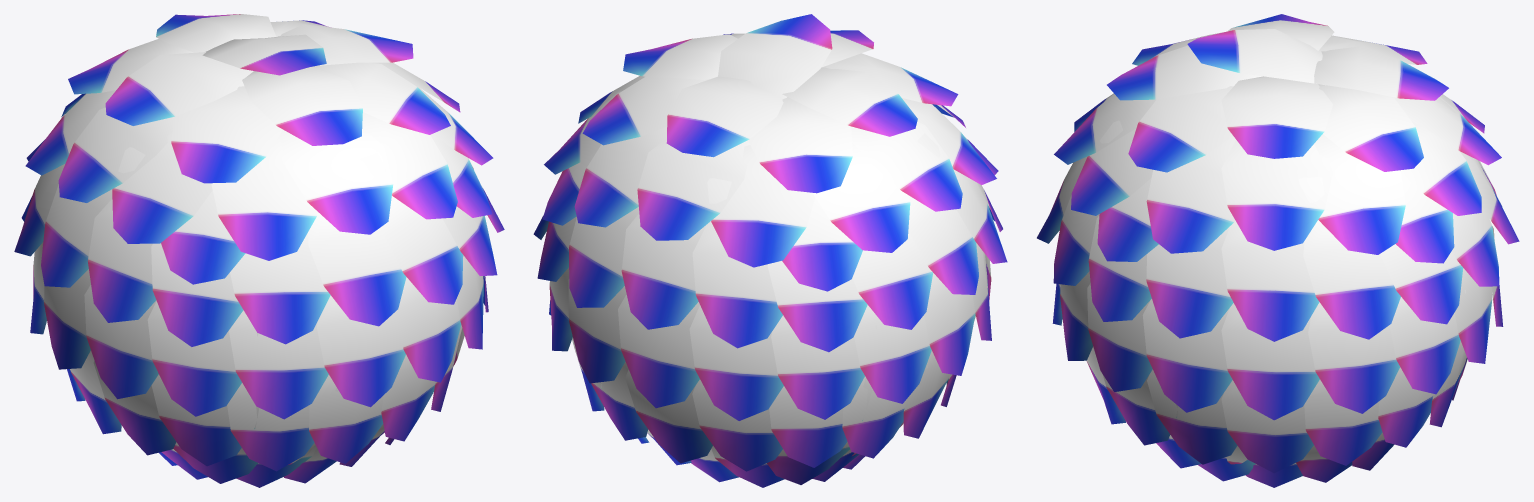
File: BushSphere2.fbx
The picture shows the model from 3 angles, left to right: view 1: azimuth 30°, elevation 25°; view 2: azimuth 150°, elevation 25°; view 3: azimuth 270°, elevation 25°; orthographic projection. The views are drawn at different scales.
Visible parts, largest first — view 1: Plane.310; view 2: Plane.310; view 3: Plane.310.
Part boxes in pixels (left/top/right/bottom): Plane.310: left=14, top=14, right=504, bottom=487; Plane.310: left=533, top=14, right=1007, bottom=487; Plane.310: left=1037, top=14, right=1519, bottom=487.
Size of the model in its own units: 227 by 216 by 227.
